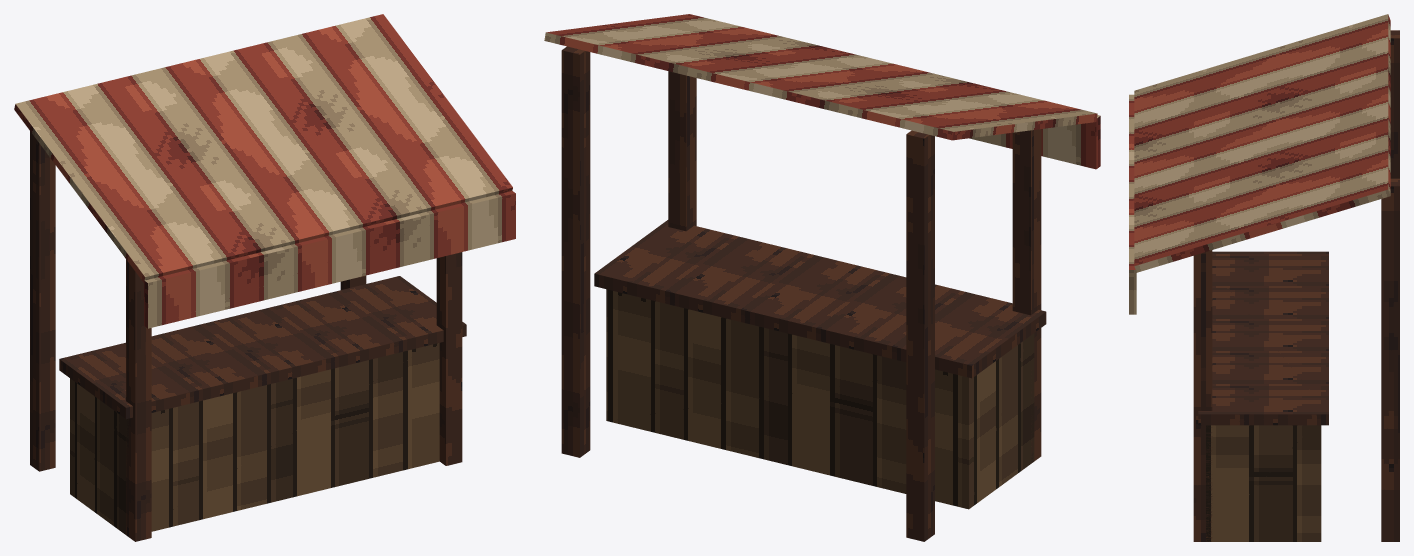
File: MV_MarketStall.glb
3 views of the same model, side by side, from view 1: azimuth 30°, elevation 25°; view 2: azimuth 150°, elevation 25°; view 3: azimuth 270°, elevation 25° (orthographic). The views are drawn at different scales.
Visible parts, largest first — view 1: MV_MarketStall_A.MV_MarketStall; view 2: MV_MarketStall_A.MV_MarketStall; view 3: MV_MarketStall_A.MV_MarketStall.
Part boxes in pixels (x1,y1,x2,y2): MV_MarketStall_A.MV_MarketStall: (14, 14, 515, 541); MV_MarketStall_A.MV_MarketStall: (544, 14, 1100, 541); MV_MarketStall_A.MV_MarketStall: (1129, 14, 1399, 541).
Size of the model in its own units: 2.7 by 2.6 by 1.76.
3 materials, 3 textured.
